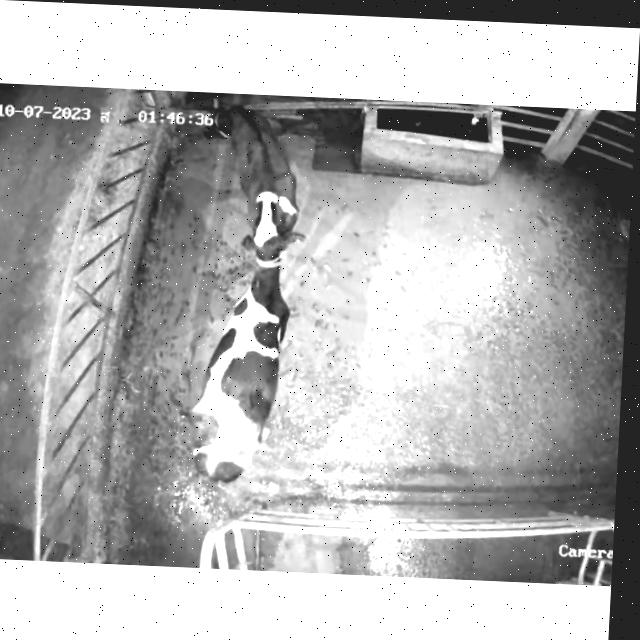propping: (232, 162, 309, 283)
